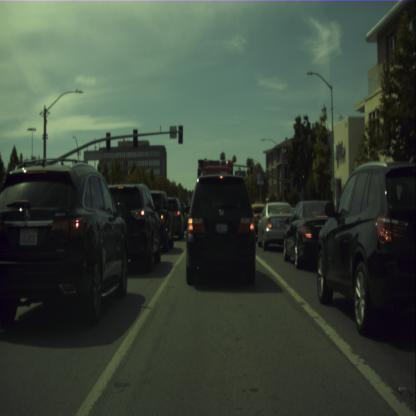Red: (301, 174, 304, 186), (250, 164, 252, 174), (284, 186, 286, 194)
